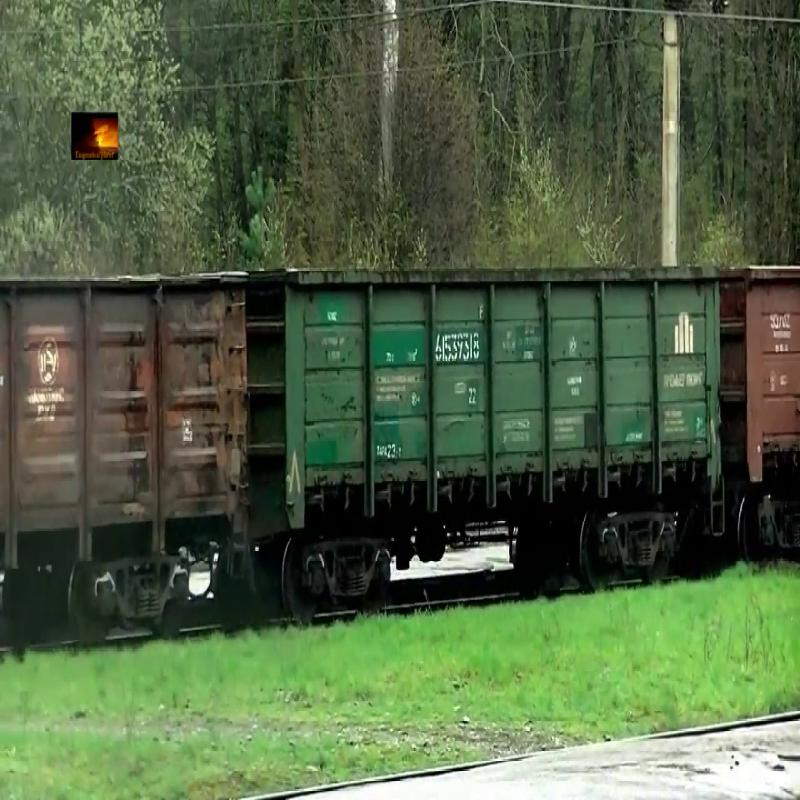train: (250, 264, 723, 534), (4, 268, 253, 567), (725, 265, 800, 490)
